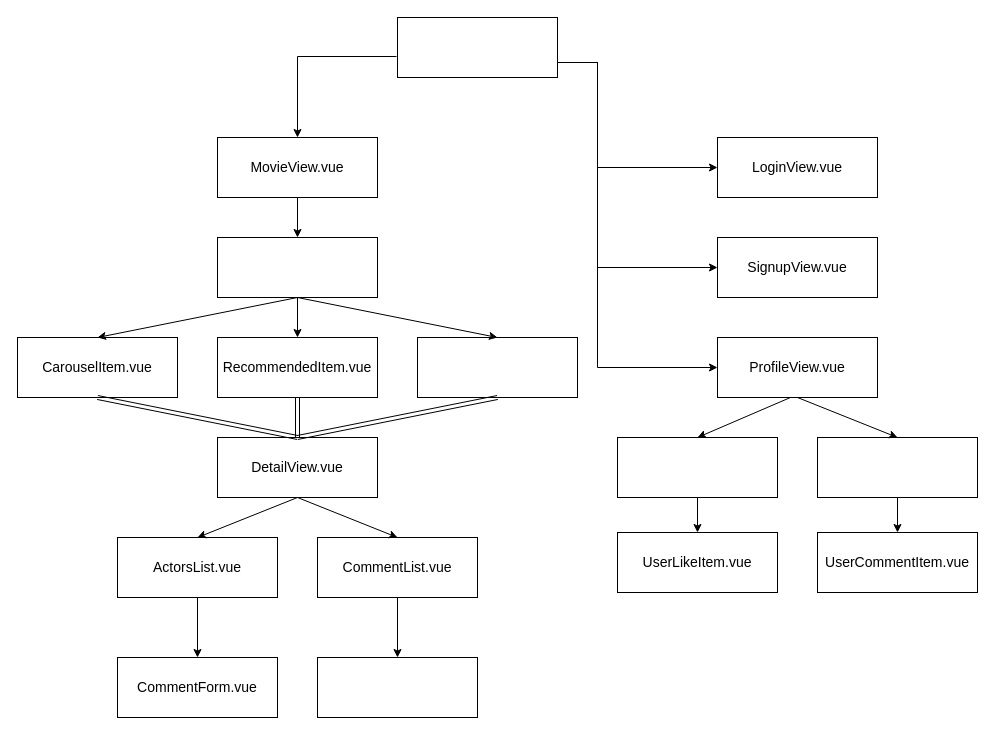
This 995x735 diagram has some shape labels left out. The centre of each missing label's shape, as x and y in pixels:
"App.vue" belongs at (477,47).
"CommentListItem.vue" belongs at (397,687).
"MovieList.vue" belongs at (297,267).
"MovieListItem.vue" belongs at (497,367).
"UserComment.vue" belongs at (897,467).
"UserLike.vue" belongs at (697,467).
